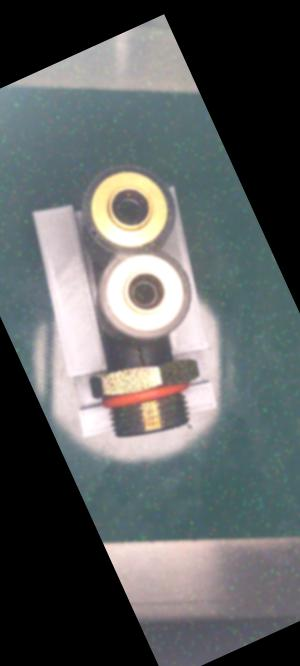craze: (130, 342, 150, 369)
